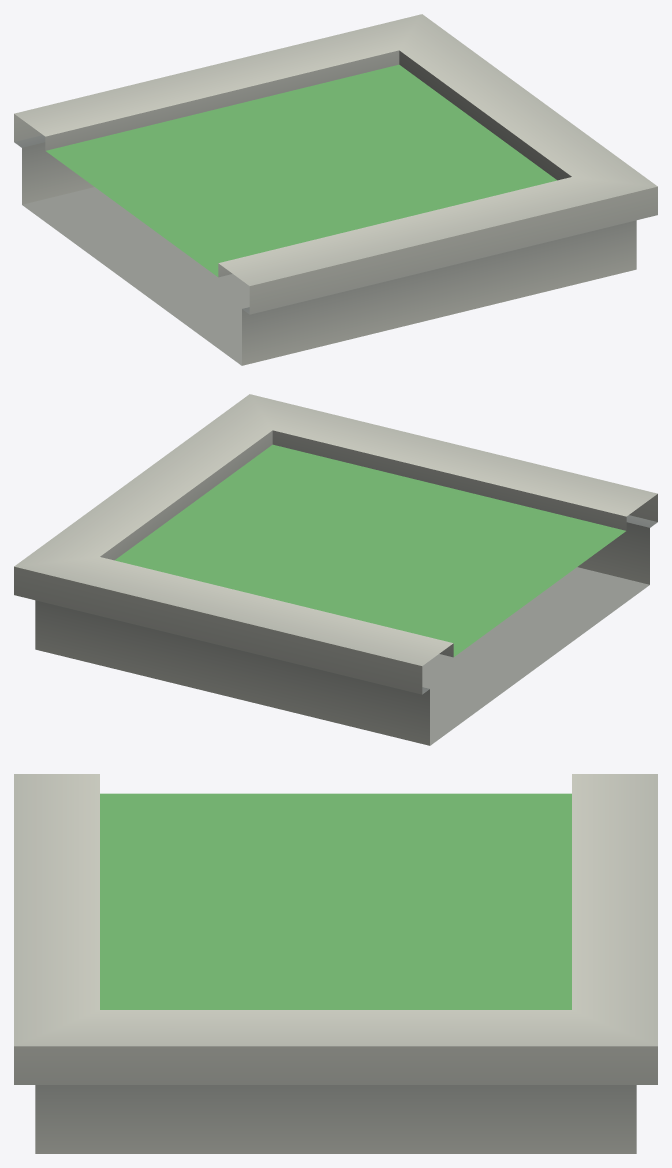
The model's file is Planter_End_Large_01.fbx.
The picture shows the model from 3 angles, top to bottom: view 1: azimuth 30°, elevation 25°; view 2: azimuth 150°, elevation 25°; view 3: azimuth 270°, elevation 25°; orthographic projection. The views are drawn at different scales.
Parts seen in each view (by area): view 1: Planter_End_Large_01; view 2: Planter_End_Large_01; view 3: Planter_End_Large_01.
Boxes of the visible parts, x1,y1,x2,y2 form: Planter_End_Large_01: (14, 14, 657, 365); Planter_End_Large_01: (14, 394, 657, 745); Planter_End_Large_01: (14, 774, 657, 1153).
Size of the model in its own units: 300 by 60 by 300.
